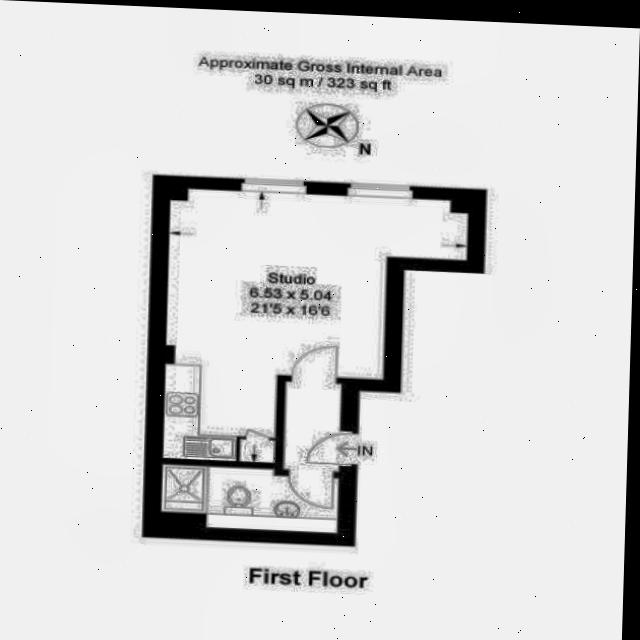room: (159, 188, 470, 471), (160, 465, 340, 533), (283, 381, 342, 472)
